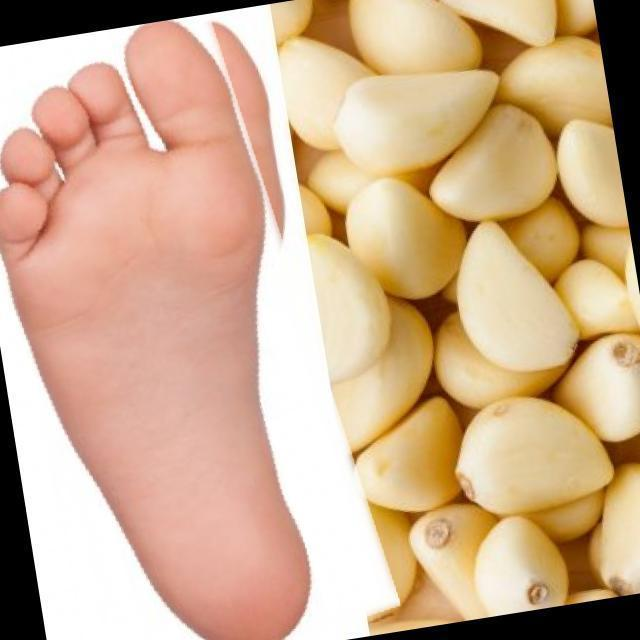No_Shoes: (0, 33, 320, 636)
